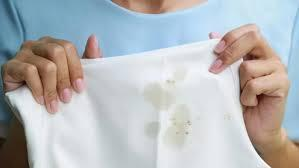mustard: (167, 103, 194, 153), (139, 79, 177, 110), (162, 65, 190, 90), (146, 122, 166, 139), (222, 110, 236, 123)
